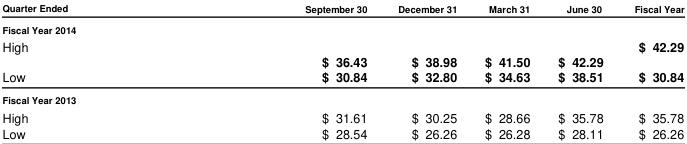table: (1, 0, 683, 141)
table column: (185, 0, 381, 141), (1, 0, 185, 141), (381, 0, 470, 141), (543, 0, 618, 141), (470, 0, 543, 141), (618, 0, 683, 141)
table column header: (1, 0, 683, 18)
table projected row header: (1, 18, 683, 36), (1, 89, 683, 107)
table row: (1, 36, 683, 68), (1, 68, 683, 89), (1, 0, 683, 18), (1, 18, 683, 36), (1, 89, 683, 107), (1, 107, 683, 125), (1, 125, 683, 141)
